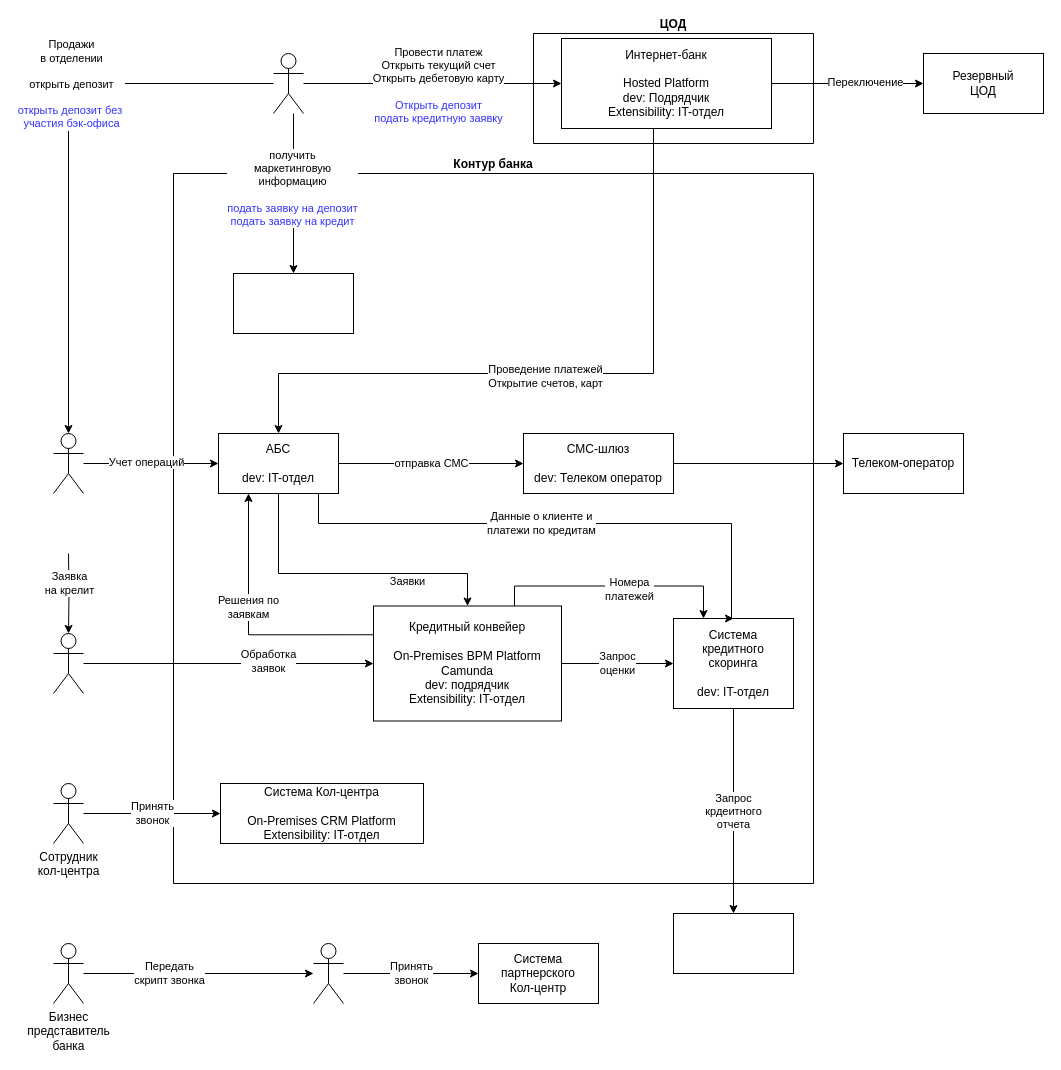
This 1061x1070 diagram has some shape labels left out. Here are the shapes that lost their labels. From the top down, the centre of each, then its label:
pixel 288 83: Клиент
pixel 293 303: Сайт dev: IT-отдел
pixel 68 463: Сотрудник отделения (фронт-офис)
pixel 68 663: Сотрудник управления кредитования
pixel 733 943: Бюро кредитных историй
pixel 328 973: Сотрудник партнерского кол-центра
